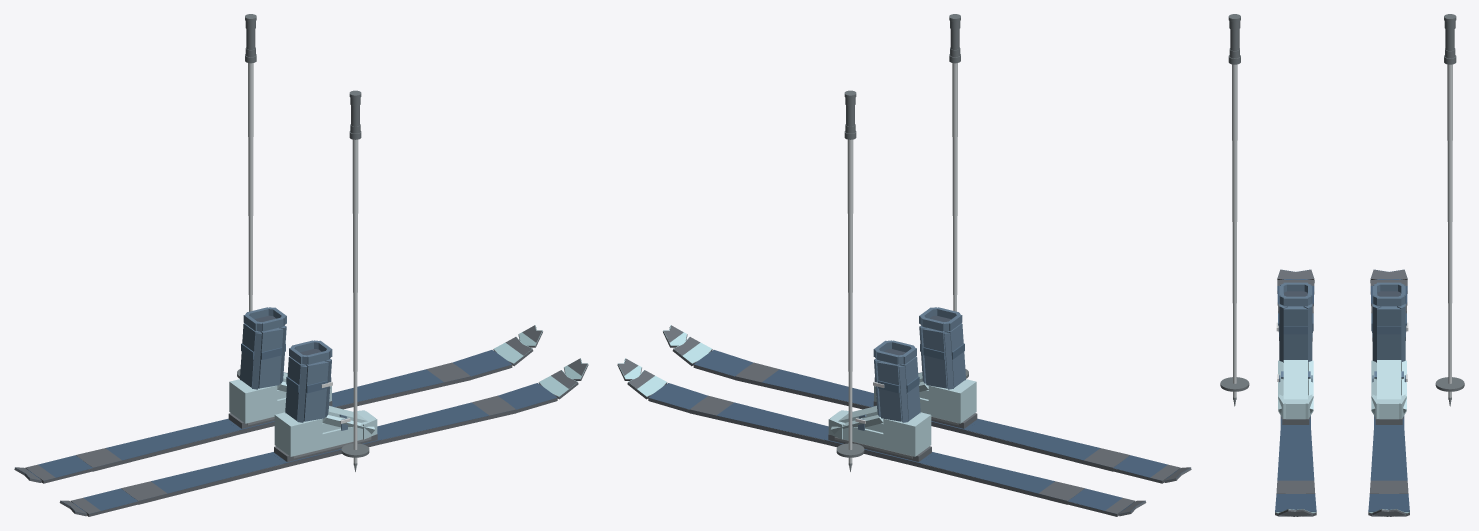
3 views of the same model, side by side, from view 1: azimuth 30°, elevation 25°; view 2: azimuth 150°, elevation 25°; view 3: azimuth 270°, elevation 25° (orthographic). The views are drawn at different scales.
Visible parts, largest first — view 1: boot_heel_cup (×2), boot_cuff_wide (×2), ski_rear_cut_top_l (×2), ski_front_cut_top_l (×2), ski_rear_cut_top_r (×2), ski_rear_cut_core_l (×2), ski_front_cut_core_l (×2), ski_front_cut_top_r (×2), boot_cuff_long (×2); view 2: boot_heel_cup (×2), boot_cuff_wide (×2), ski_rear_cut_top_r (×2), ski_rear_cut_top_l (×2), ski_front_cut_top_r (×2), ski_rear_cut_core_r (×2), ski_front_cut_top_l (×2), ski_front_cut_core_r (×2), boot_cuff_long (×2); view 3: boot_cuff_long (×2), boot_instep_roof (×2), ski_front_cut_top_l (×2), ski_front_cut_top_r (×2), pole_shaft_3 (×2), pole_shaft_4 (×2), pole_shaft_2 (×2), boot_toe_center (×2), ski_front_top_l (×2), ski_front_top_r (×2), pole_basket (×2), pole_shaft_1 (×2) (+2 smaller).
Boxes of the visible parts, x1,y1,x2,y2 form: boot_heel_cup (×2): [229, 379, 322, 456]; boot_cuff_wide (×2): [258, 328, 328, 421]; ski_rear_cut_top_l (×2): [93, 426, 284, 501]; ski_front_cut_top_l (×2): [332, 376, 515, 439]; ski_rear_cut_top_r (×2): [106, 419, 275, 486]; ski_rear_cut_core_l (×2): [84, 430, 284, 504]; ski_front_cut_core_l (×2): [336, 369, 516, 444]; ski_front_cut_top_r (×2): [332, 369, 479, 431]; boot_cuff_long (×2): [240, 323, 331, 420]; boot_heel_cup (×2): [883, 379, 976, 456]; boot_cuff_wide (×2): [877, 328, 947, 421]; ski_rear_cut_top_r (×2): [921, 426, 1112, 501]; ski_rear_cut_top_l (×2): [930, 419, 1099, 486]; ski_front_cut_top_r (×2): [690, 376, 873, 439]; ski_rear_cut_core_r (×2): [921, 430, 1121, 504]; ski_front_cut_top_l (×2): [726, 369, 873, 433]; ski_front_cut_core_r (×2): [689, 369, 869, 444]; boot_cuff_long (×2): [874, 323, 965, 420]; boot_cuff_long (×2): [1283, 306, 1401, 359]; boot_instep_roof (×2): [1283, 360, 1401, 399]; ski_front_cut_top_l (×2): [1277, 426, 1390, 480]; ski_front_cut_top_r (×2): [1294, 426, 1407, 480]; pole_shaft_3 (×2): [1232, 141, 1452, 222]; pole_shaft_4 (×2): [1232, 64, 1452, 141]; pole_shaft_2 (×2): [1232, 222, 1452, 303]; boot_toe_center (×2): [1286, 399, 1398, 419]; ski_front_top_l (×2): [1275, 494, 1390, 511]; ski_front_top_r (×2): [1294, 494, 1409, 511]; pole_basket (×2): [1220, 377, 1464, 391]; pole_shaft_1 (×2): [1233, 303, 1451, 383].
Bounding box in the file's own units: 1.71 × 1.2 × 0.68.
